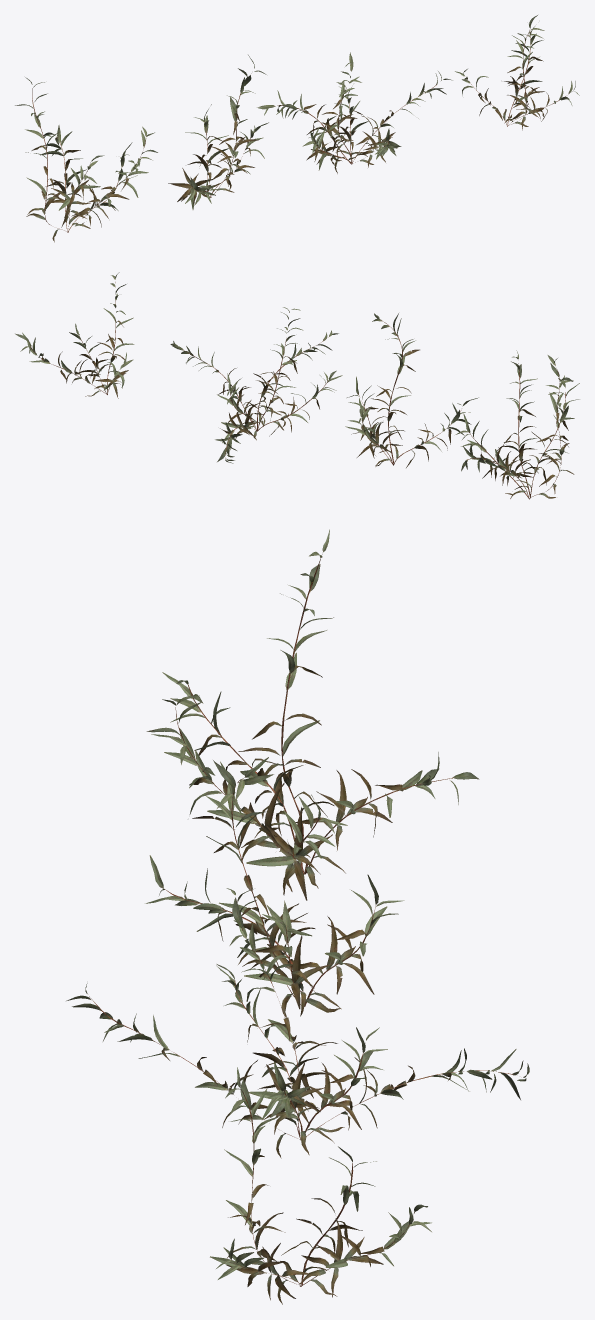
File: shrub_02.glb
The picture shows the model from 3 angles, top to bottom: view 1: azimuth 30°, elevation 25°; view 2: azimuth 150°, elevation 25°; view 3: azimuth 270°, elevation 25°; orthographic projection. The views are drawn at different scales.
Visible parts, largest first — view 1: shrub_02_a, shrub_02_c, shrub_02_b, shrub_02_d; view 2: shrub_02_a, shrub_02_c, shrub_02_b, shrub_02_d; view 3: shrub_02_a, shrub_02_c, shrub_02_b, shrub_02_d.
Boxes of the visible parts, x1,y1,x2,y2 form: shrub_02_a: (15, 77, 157, 242); shrub_02_c: (257, 52, 452, 173); shrub_02_b: (168, 55, 268, 209); shrub_02_d: (455, 15, 579, 130); shrub_02_a: (455, 350, 579, 499); shrub_02_c: (170, 307, 342, 463); shrub_02_b: (345, 313, 478, 467); shrub_02_d: (15, 272, 134, 398); shrub_02_a: (146, 529, 479, 900); shrub_02_c: (66, 888, 529, 1158); shrub_02_b: (145, 757, 404, 1017); shrub_02_d: (210, 1067, 431, 1304).
Bounding box in the file's own units: 6.05 × 1.7 × 2.29.
1 material, 1 textured.
